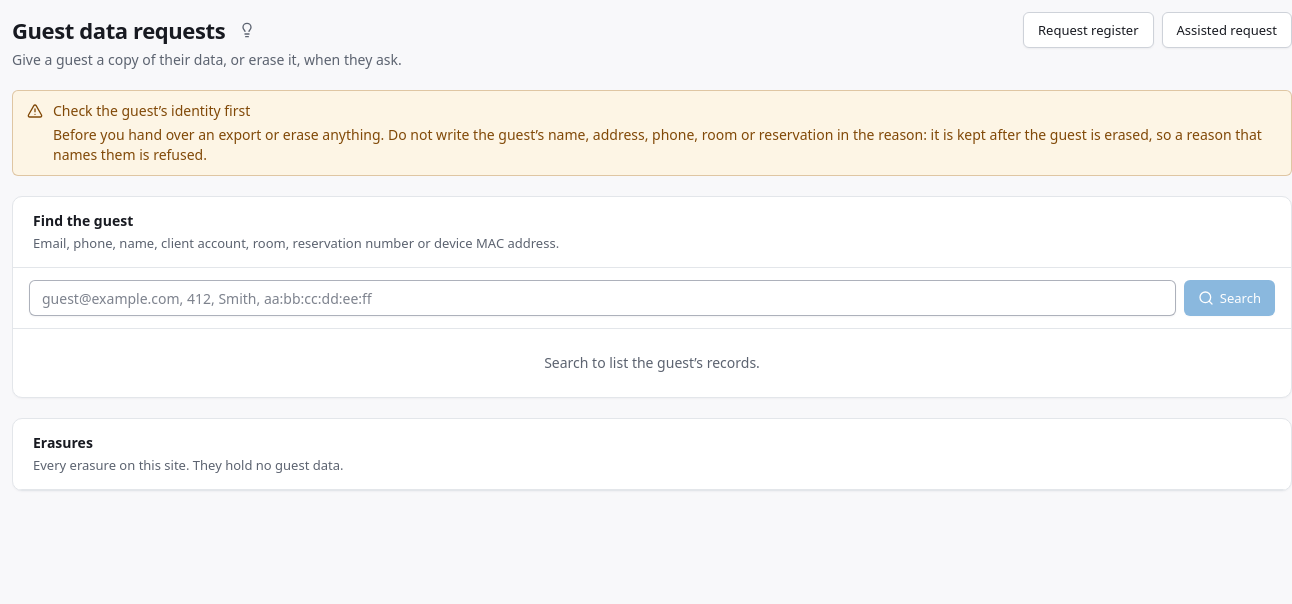
Guest data requests › searches with the typed term
Type "guest@example" into the search field named "Search".
click(602, 298); type("guest@example")  # box [29,280,1176,316]
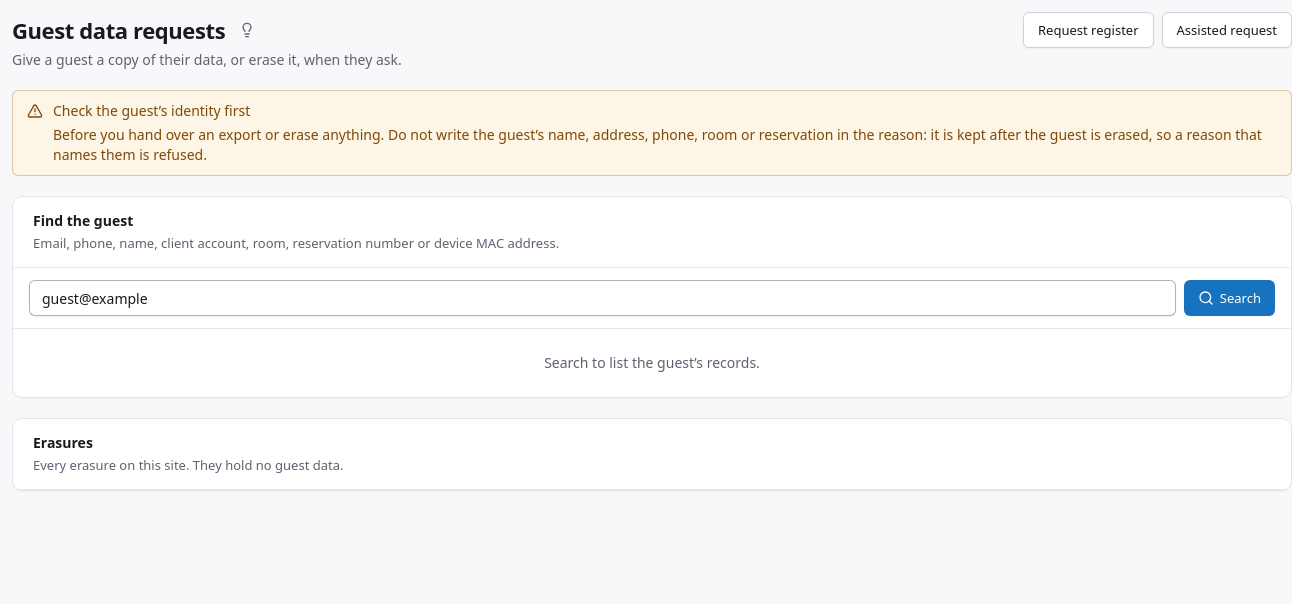
Click the button "Search".
click(1229, 298)  # box [1184,280,1275,316]
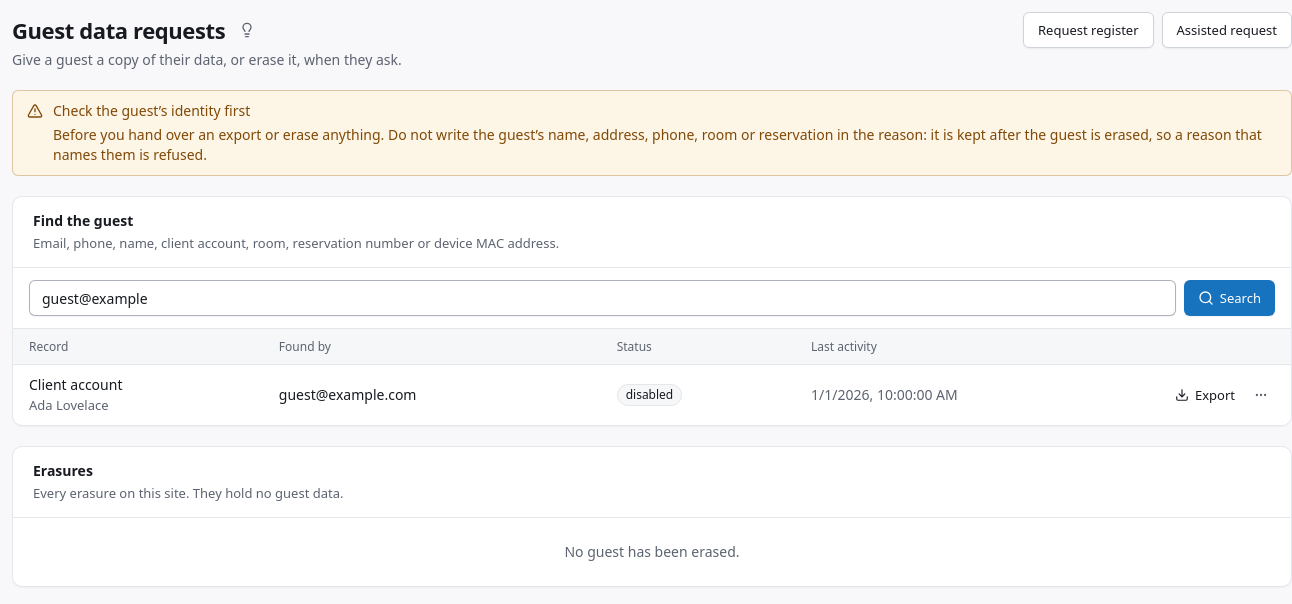
Check: the text "guest@example.com" is shown, box [263,365,601,425]
Check: the text "Client account" is shown, box [29,375,122,394]
